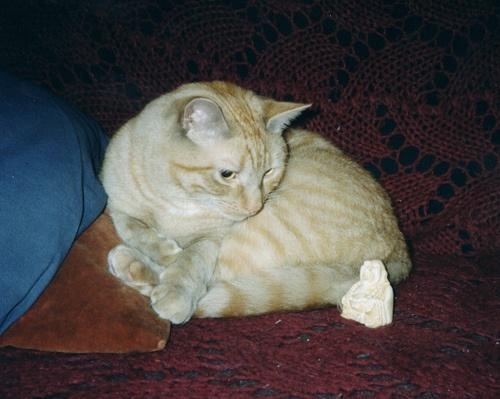cat: (100, 80, 414, 324)
